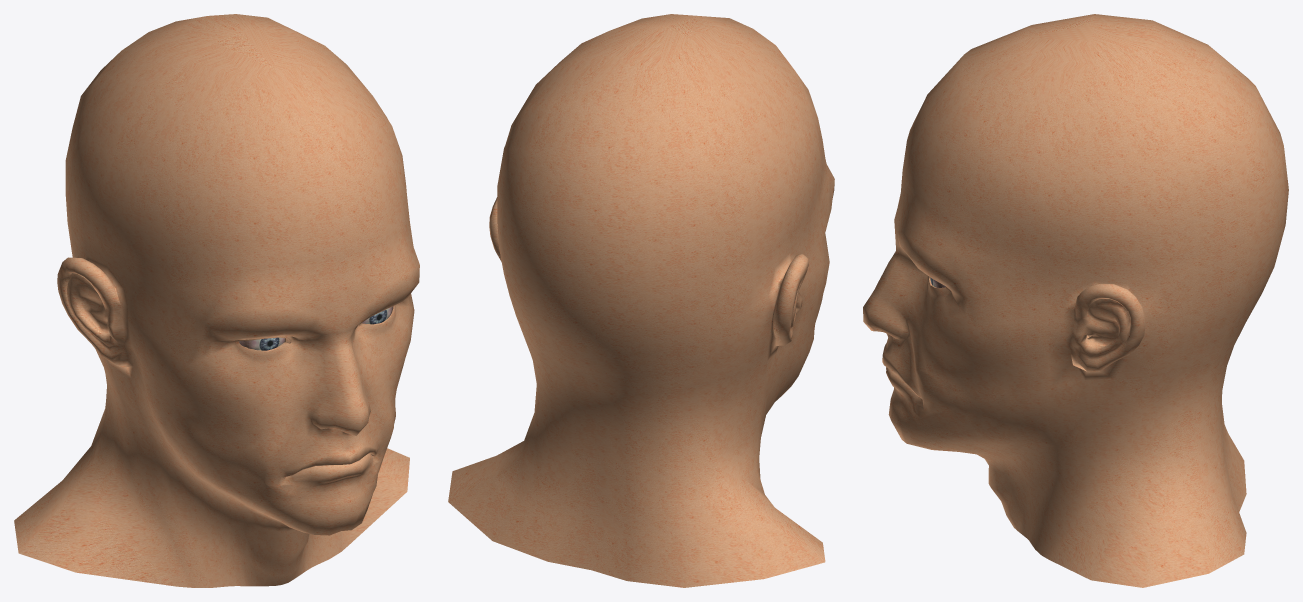
File: sad_mouth.FBX
3 renders of one model, left to right at view 1: azimuth 30°, elevation 25°; view 2: azimuth 150°, elevation 25°; view 3: azimuth 270°, elevation 25°, orthographic. The views are drawn at different scales.
Parts seen in each view (by area): view 1: head; view 2: head; view 3: head.
Part boxes in pixels (box(x1,y1,x2,y2)): head: box(14, 14, 419, 587); head: box(448, 14, 834, 587); head: box(863, 14, 1288, 587).
Bounding box in the file's own units: 44.22 × 43.6 × 56.51.
4 materials, 2 textured.
